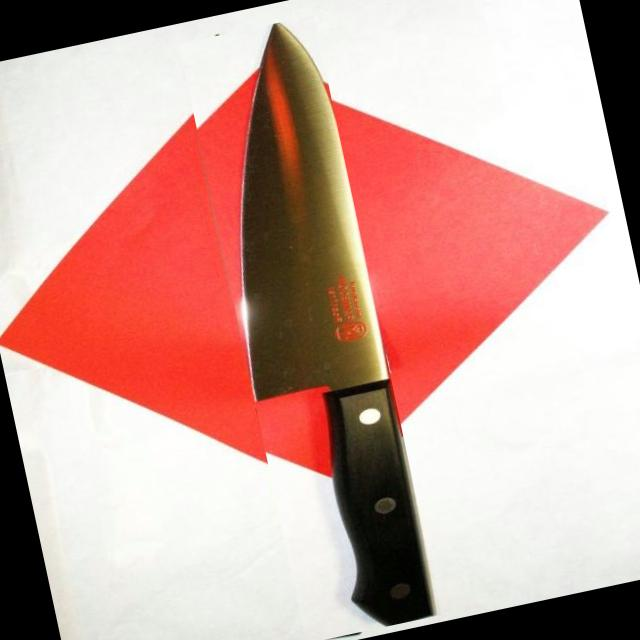Knife: (242, 22, 434, 625)
